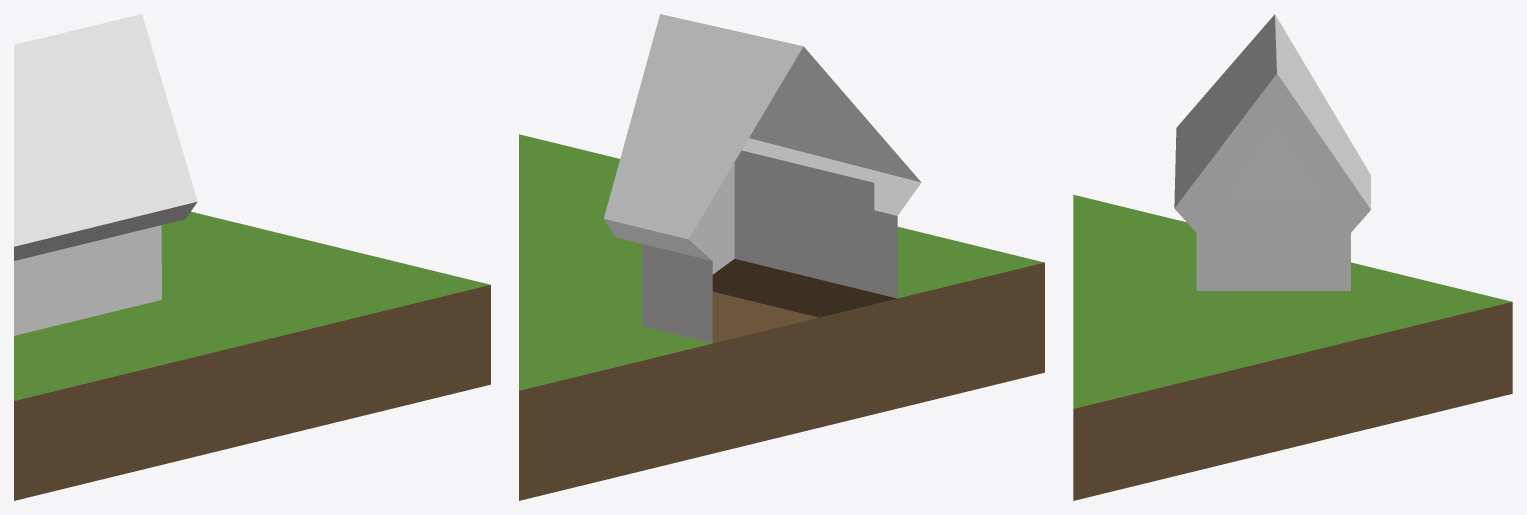
File: Casa_Cantonera_E.fbx
3 renders of one model, left to right at view 1: azimuth 30°, elevation 25°; view 2: azimuth 150°, elevation 25°; view 3: azimuth 270°, elevation 25°, orthographic. The views are drawn at different scales.
Parts seen in each view (by area): view 1: Casa_Cantonera_E, Detall.001; view 2: Casa_Cantonera_E, Detall.001; view 3: Casa_Cantonera_E, Detall.001, Detall.004.
Part boxes in pixels (x1,y1,x2,y2): Casa_Cantonera_E: (14,14,490,500); Detall.001: (35,225,161,330); Casa_Cantonera_E: (519,14,1044,500); Detall.001: (688,150,874,292); Casa_Cantonera_E: (1073,14,1512,500); Detall.001: (1196,199,1331,290); Detall.004: (1219,118,1327,199).
Bounding box in the file's own units: 1 × 0.7 × 0.8662.
